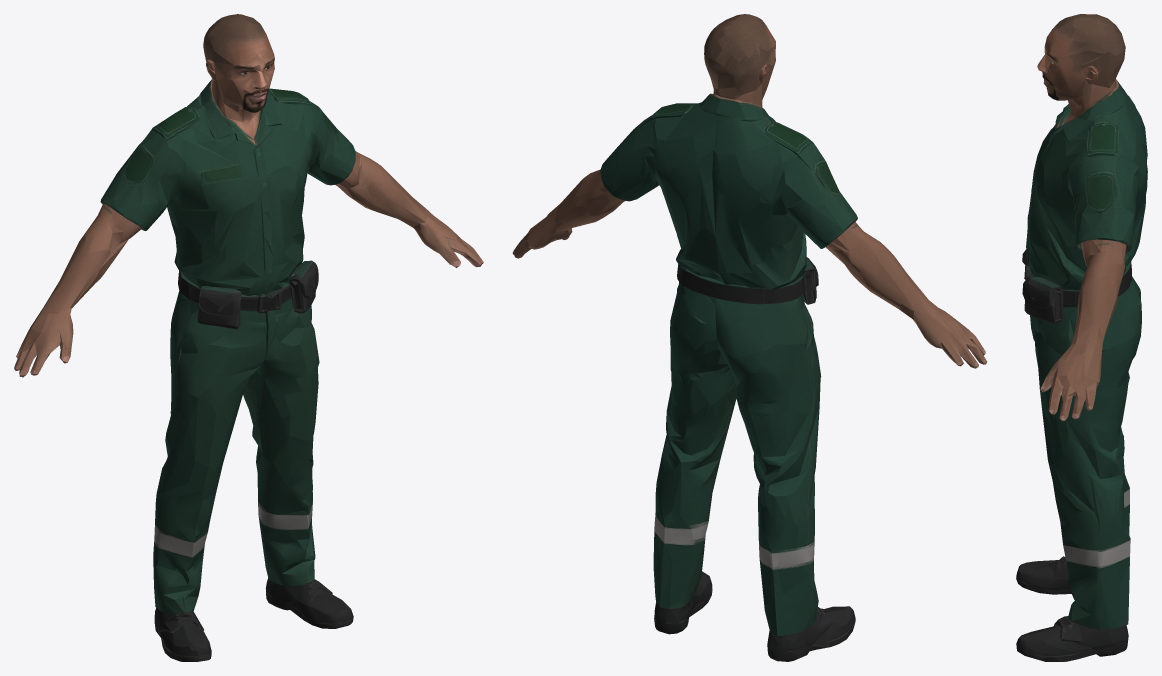
The model's file is image3d.glb.
3 renders of one model, left to right at view 1: azimuth 30°, elevation 25°; view 2: azimuth 150°, elevation 25°; view 3: azimuth 270°, elevation 25°, orthographic.
Size of the model in its own units: 1.52 by 1.9 by 0.3743.
1 material, 1 textured.
